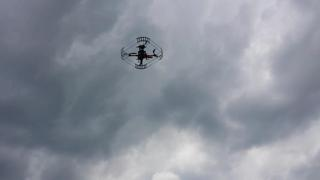UAV: (121, 37, 164, 70)
